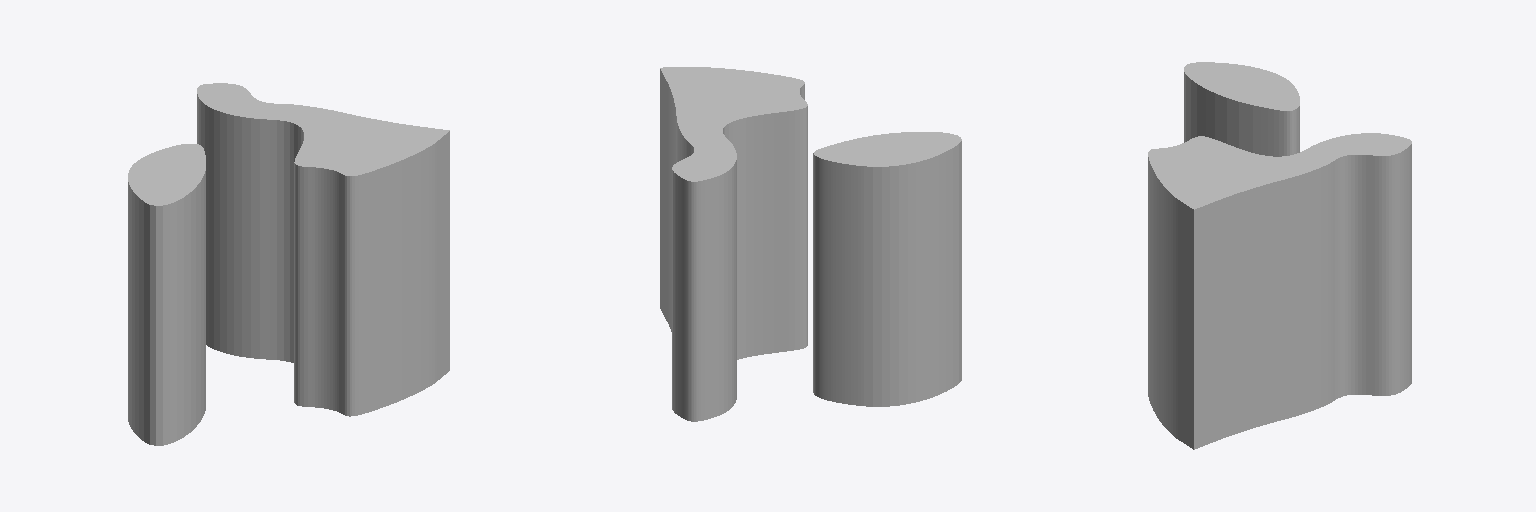
Rendered from Europe_01.obj.
The picture shows the model from 3 angles: view 1: azimuth 30°, elevation 25°; view 2: azimuth 150°, elevation 25°; view 3: azimuth 270°, elevation 25°; orthographic projection.
Parts seen in each view (by area): view 1: Europe_01_path4230; view 2: Europe_01_path4230; view 3: Europe_01_path4230.
Part boxes in pixels (x1,y1,x2,y2): Europe_01_path4230: (128,83,449,445); Europe_01_path4230: (660,67,961,421); Europe_01_path4230: (1148,62,1411,449).
Size of the model in its own units: 0.1319 by 0.1 by 0.0996.